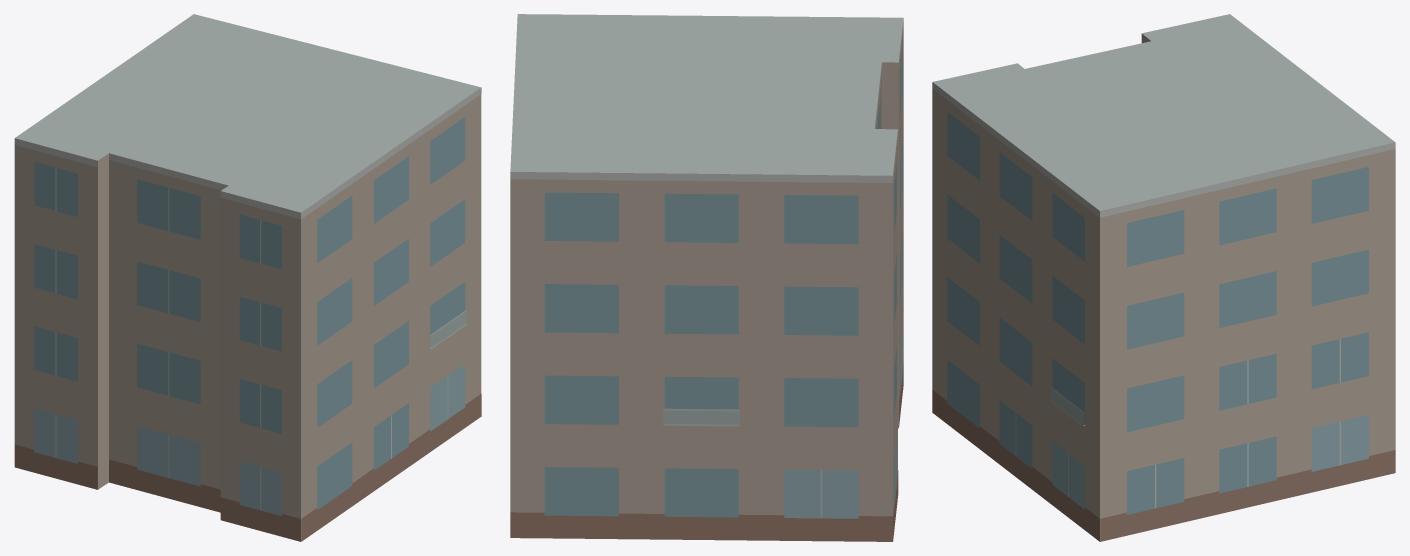
File: survey-upis-32827376.glb
The picture shows the model from 3 angles, left to right: view 1: azimuth 30°, elevation 25°; view 2: azimuth 150°, elevation 25°; view 3: azimuth 270°, elevation 25°; orthographic projection. The views are drawn at different scales.
Parts seen in each view (by area): view 1: survey-upis-32827376.tmp; view 2: survey-upis-32827376.tmp; view 3: survey-upis-32827376.tmp.
Boxes of the visible parts, x1,y1,x2,y2 form: survey-upis-32827376.tmp: [14, 14, 481, 541]; survey-upis-32827376.tmp: [510, 14, 903, 541]; survey-upis-32827376.tmp: [932, 14, 1395, 541].
Size of the model in its own units: 15.54 by 12.15 by 15.43.
